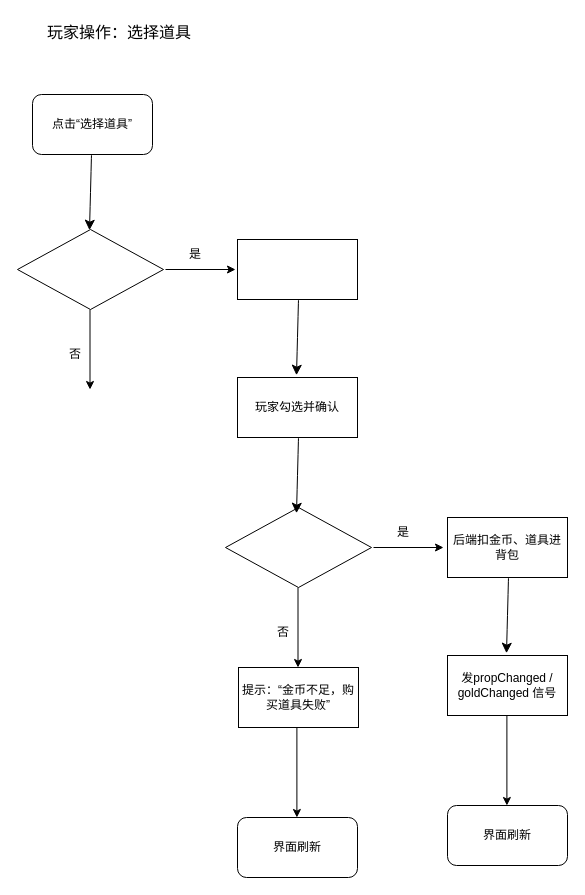
The diagram is 585 pixels wide and 895 high, and some of its shapes have lost their labels. The shapes that lost their labels are listed below. From the top down, each one's centre as x and y in pixels, then its label:
At point (90, 269): "轮数>=5".
At point (297, 269): "弹出ProDialog：道具价格、效果、金币余额".
At point (298, 547): "金币>0".
